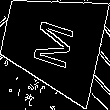M_W: (27, 13, 77, 71)
